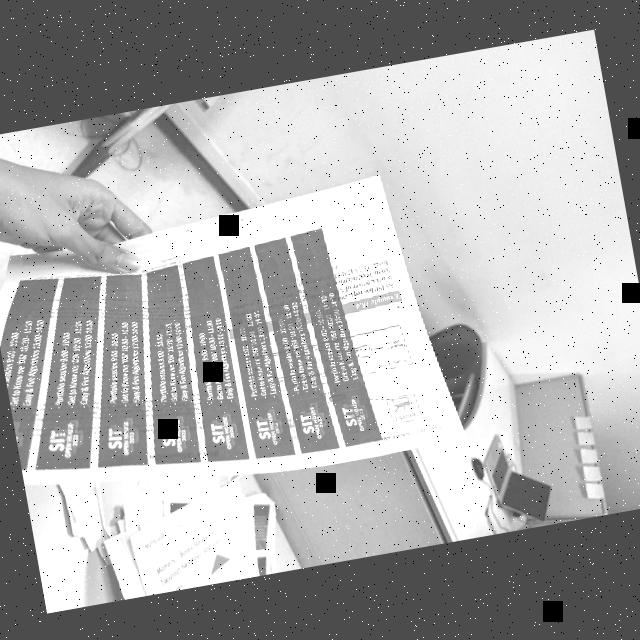reuseable_paper: (0, 158, 470, 516), (51, 412, 298, 606)
